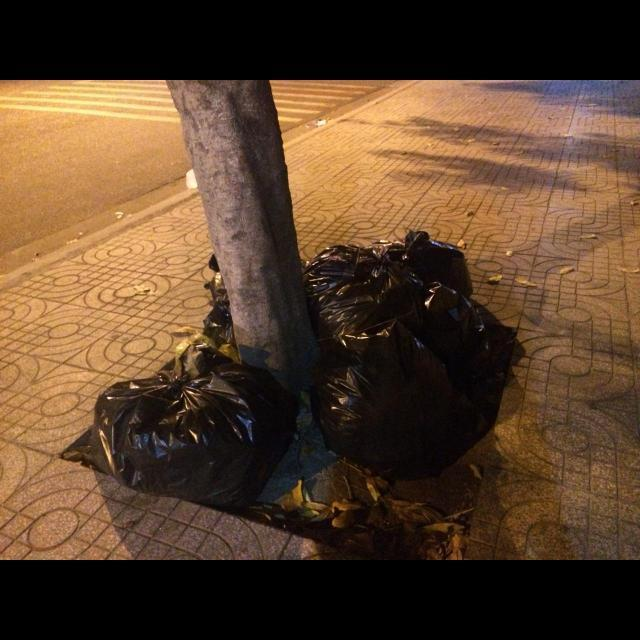Plastic: (92, 342, 298, 512), (309, 282, 491, 474), (303, 240, 425, 340), (406, 230, 474, 298), (202, 256, 235, 346), (175, 332, 217, 363)
